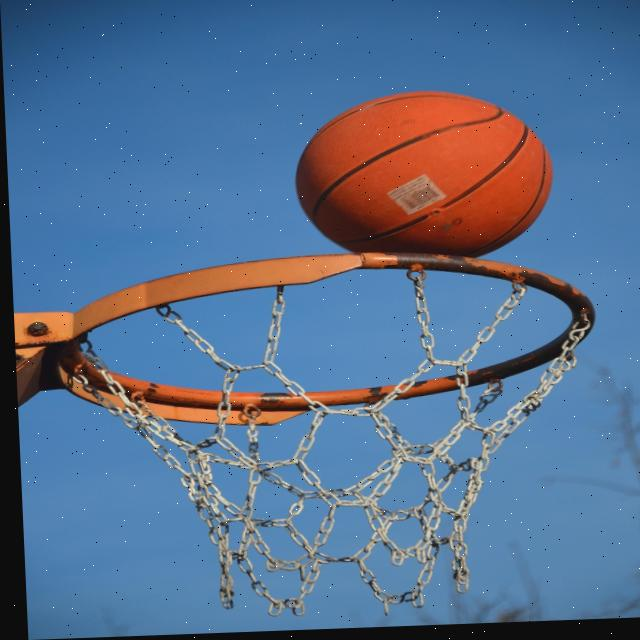rebound_hit: (295, 87, 561, 270)
